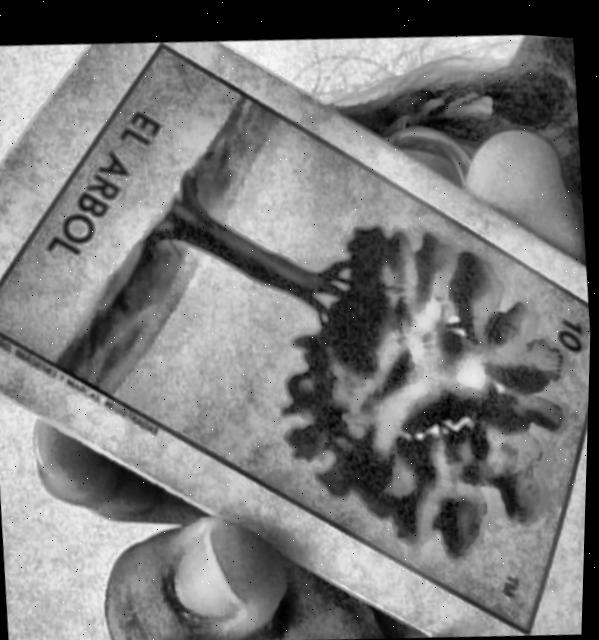El Arbol: (0, 41, 592, 621)
